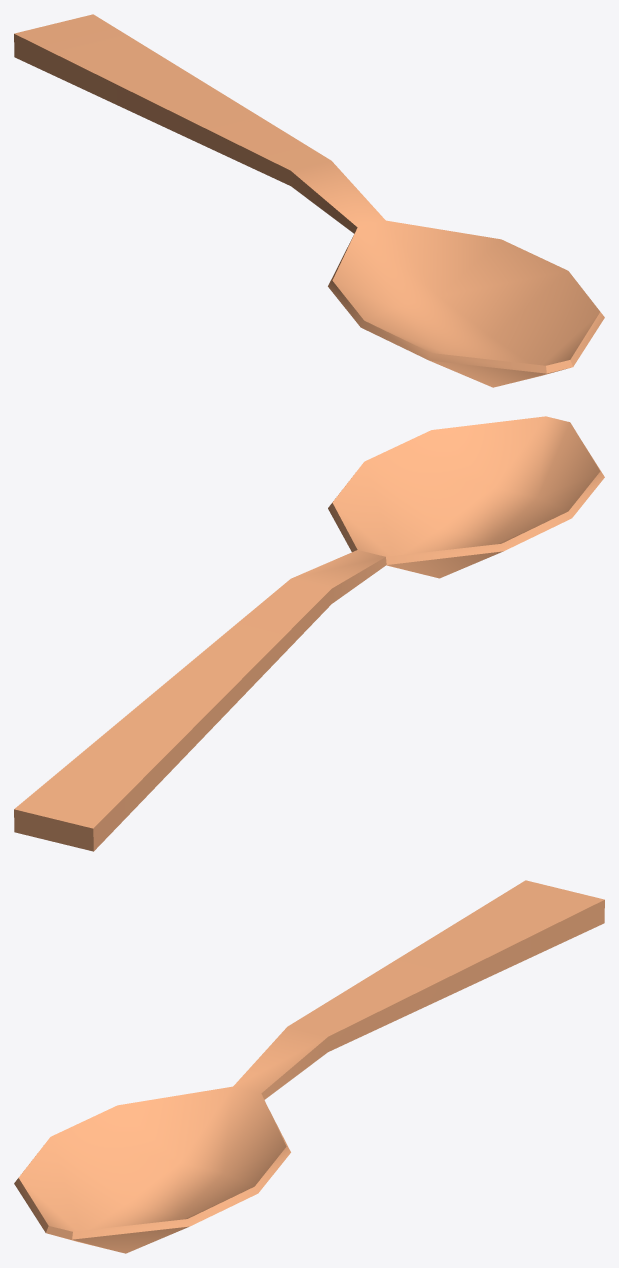
Rendered from spoon01.fbx.
The picture shows the model from 3 angles, top to bottom: view 1: azimuth 30°, elevation 25°; view 2: azimuth 150°, elevation 25°; view 3: azimuth 330°, elevation 25°; orthographic projection.
Parts seen in each view (by area): view 1: Utensils01_Uv_v001:Spoon01_Modelling_v001:Spoon_Body; view 2: Utensils01_Uv_v001:Spoon01_Modelling_v001:Spoon_Body; view 3: Utensils01_Uv_v001:Spoon01_Modelling_v001:Spoon_Body.
Part boxes in pixels (x1=…): Utensils01_Uv_v001:Spoon01_Modelling_v001:Spoon_Body: x1=14, y1=14, x2=604, y2=387; Utensils01_Uv_v001:Spoon01_Modelling_v001:Spoon_Body: x1=14, y1=416, x2=604, y2=851; Utensils01_Uv_v001:Spoon01_Modelling_v001:Spoon_Body: x1=14, y1=880, x2=604, y2=1253.
Bounding box in the file's own units: 6.24 × 2.03 × 25.92.
1 material, 1 textured.
